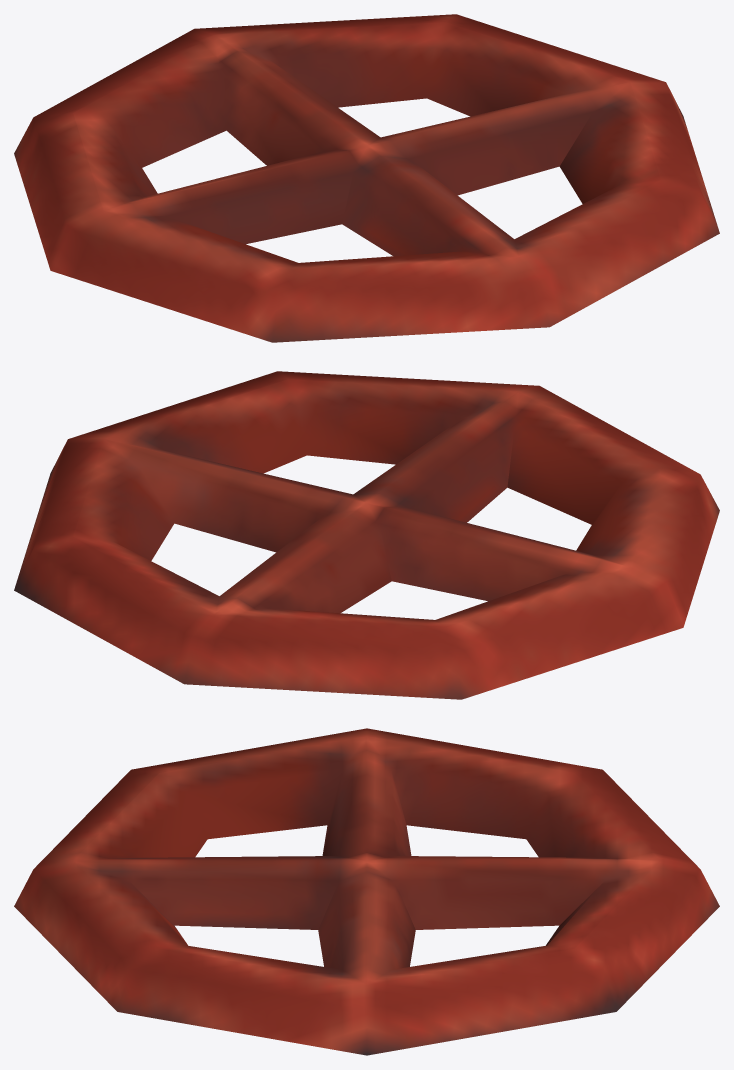
The model's file is sn_jixie_famen_001.FBX.
The picture shows the model from 3 angles, top to bottom: view 1: azimuth 30°, elevation 25°; view 2: azimuth 150°, elevation 25°; view 3: azimuth 270°, elevation 25°; orthographic projection. The views are drawn at different scales.
Visible parts, largest first — view 1: sn_jixie_famen_001; view 2: sn_jixie_famen_001; view 3: sn_jixie_famen_001.
Boxes of the visible parts, <box> form: sn_jixie_famen_001: <box>14,14,719,342</box>; sn_jixie_famen_001: <box>14,371,719,699</box>; sn_jixie_famen_001: <box>14,728,719,1055</box>.
Size of the model in its own units: 3.46 by 3.46 by 0.2465.
